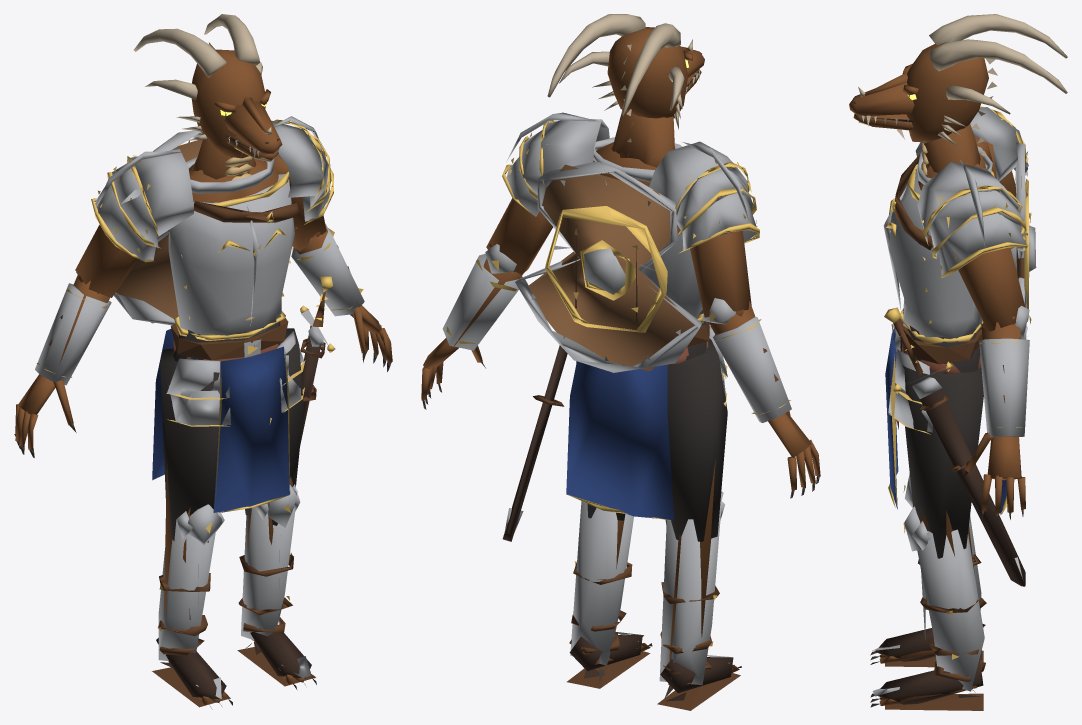
File: human_heavy.glb
3 renders of one model, left to right at view 1: azimuth 30°, elevation 25°; view 2: azimuth 150°, elevation 25°; view 3: azimuth 270°, elevation 25°, orthographic. The views are drawn at different scales.
Visible parts, largest first — view 1: human_heavy__OW_Armor_KnightPlate_01_Chest_d, human_heavy__OW_Armor_KnightPlate_01_Legs_d, human_heavy__OW_Char_Dragonborn_01_Body_Head_d, human_heavy__OW_Armor_KnightPlate_01_Shoulders_d, human_heavy__OW_Armor_KnightPlate_01_Arms_d, human_heavy__OW_Armor_KnightPlate_01_Feet_d, human_heavy__OW_Char_Dragonborn_01_Body_Arms_d, human_heavy__OW_Armor_KnightPlate_01_Back_d, human_heavy__OW_Char_Dragonborn_01_Body_Hands_d, human_heavy__OW_Armor_KnightPlate_01_Weapon_Hip_d, human_heavy__OW_Char_Dragonborn_01_Body_Torso_d, human_heavy__OW_Char_Dragonborn_01_Body_Legs_d; view 2: human_heavy__OW_Armor_KnightPlate_01_Back_d, human_heavy__OW_Armor_KnightPlate_01_Legs_d, human_heavy__OW_Armor_KnightPlate_01_Chest_d, human_heavy__OW_Armor_KnightPlate_01_Shoulders_d, human_heavy__OW_Char_Dragonborn_01_Body_Head_d, human_heavy__OW_Armor_KnightPlate_01_Arms_d, human_heavy__OW_Char_Dragonborn_01_Body_Arms_d, human_heavy__OW_Armor_KnightPlate_01_Feet_d, human_heavy__OW_Char_Dragonborn_01_Body_Hands_d, human_heavy__OW_Armor_KnightPlate_01_Weapon_Hip_d, human_heavy__OW_Char_Dragonborn_01_Body_Legs_d, human_heavy__OW_Char_Dragonborn_01_Body_Torso_d; view 3: human_heavy__OW_Armor_KnightPlate_01_Legs_d, human_heavy__OW_Char_Dragonborn_01_Body_Head_d, human_heavy__OW_Armor_KnightPlate_01_Chest_d, human_heavy__OW_Armor_KnightPlate_01_Shoulders_d, human_heavy__OW_Armor_KnightPlate_01_Weapon_Hip_d, human_heavy__OW_Armor_KnightPlate_01_Feet_d, human_heavy__OW_Armor_KnightPlate_01_Arms_d, human_heavy__OW_Char_Dragonborn_01_Body_Arms_d, human_heavy__OW_Char_Dragonborn_01_Body_Hands_d, human_heavy__OW_Armor_KnightPlate_01_Back_d, human_heavy__OW_Char_Dragonborn_01_Body_Feet_d, human_heavy__OW_Char_Dragonborn_01_Body_Legs_d.
Part boxes in pixels (box(x1,y1,x2,y2)): human_heavy__OW_Armor_KnightPlate_01_Chest_d: box(152, 157, 300, 513); human_heavy__OW_Armor_KnightPlate_01_Legs_d: box(158, 317, 305, 660); human_heavy__OW_Char_Dragonborn_01_Body_Head_d: box(134, 14, 282, 180); human_heavy__OW_Armor_KnightPlate_01_Shoulders_d: box(91, 116, 333, 262); human_heavy__OW_Armor_KnightPlate_01_Arms_d: box(35, 223, 364, 385); human_heavy__OW_Armor_KnightPlate_01_Feet_d: box(152, 617, 315, 707); human_heavy__OW_Char_Dragonborn_01_Body_Arms_d: box(59, 155, 359, 364); human_heavy__OW_Armor_KnightPlate_01_Back_d: box(114, 130, 202, 325); human_heavy__OW_Char_Dragonborn_01_Body_Hands_d: box(14, 305, 392, 457); human_heavy__OW_Armor_KnightPlate_01_Weapon_Hip_d: box(300, 276, 335, 445); human_heavy__OW_Char_Dragonborn_01_Body_Torso_d: box(189, 158, 278, 341); human_heavy__OW_Char_Dragonborn_01_Body_Legs_d: box(163, 340, 292, 619); human_heavy__OW_Armor_KnightPlate_01_Back_d: box(515, 161, 702, 372); human_heavy__OW_Armor_KnightPlate_01_Legs_d: box(570, 309, 727, 685); human_heavy__OW_Armor_KnightPlate_01_Chest_d: box(566, 137, 709, 520); human_heavy__OW_Armor_KnightPlate_01_Shoulders_d: box(502, 112, 759, 252); human_heavy__OW_Char_Dragonborn_01_Body_Head_d: box(547, 14, 704, 172); human_heavy__OW_Armor_KnightPlate_01_Arms_d: box(442, 244, 791, 422); human_heavy__OW_Char_Dragonborn_01_Body_Arms_d: box(454, 198, 755, 345); human_heavy__OW_Armor_KnightPlate_01_Feet_d: box(567, 632, 740, 710); human_heavy__OW_Char_Dragonborn_01_Body_Hands_d: box(421, 338, 820, 498); human_heavy__OW_Armor_KnightPlate_01_Weapon_Hip_d: box(502, 345, 567, 541); human_heavy__OW_Char_Dragonborn_01_Body_Legs_d: box(616, 341, 715, 664); human_heavy__OW_Char_Dragonborn_01_Body_Torso_d: box(593, 142, 656, 186); human_heavy__OW_Armor_KnightPlate_01_Legs_d: box(888, 309, 986, 691); human_heavy__OW_Char_Dragonborn_01_Body_Head_d: box(849, 14, 1067, 174); human_heavy__OW_Armor_KnightPlate_01_Chest_d: box(883, 146, 1007, 514); human_heavy__OW_Armor_KnightPlate_01_Shoulders_d: box(915, 106, 1028, 277); human_heavy__OW_Armor_KnightPlate_01_Weapon_Hip_d: box(884, 307, 1025, 586); human_heavy__OW_Armor_KnightPlate_01_Feet_d: box(872, 624, 985, 710); human_heavy__OW_Armor_KnightPlate_01_Arms_d: box(979, 213, 1031, 436); human_heavy__OW_Char_Dragonborn_01_Body_Arms_d: box(958, 136, 1028, 435); human_heavy__OW_Char_Dragonborn_01_Body_Hands_d: box(964, 432, 1025, 521); human_heavy__OW_Armor_KnightPlate_01_Back_d: box(1015, 142, 1036, 339); human_heavy__OW_Char_Dragonborn_01_Body_Feet_d: box(870, 650, 981, 707); human_heavy__OW_Char_Dragonborn_01_Body_Legs_d: box(896, 343, 981, 575).
Size of the model in its own units: 1.16 by 1.91 by 0.5777.
